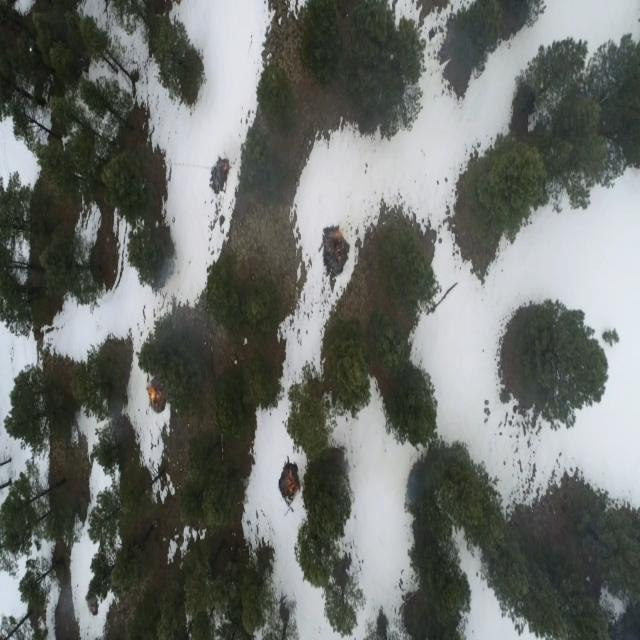Fire: (142, 363, 166, 421), (277, 452, 301, 501)
